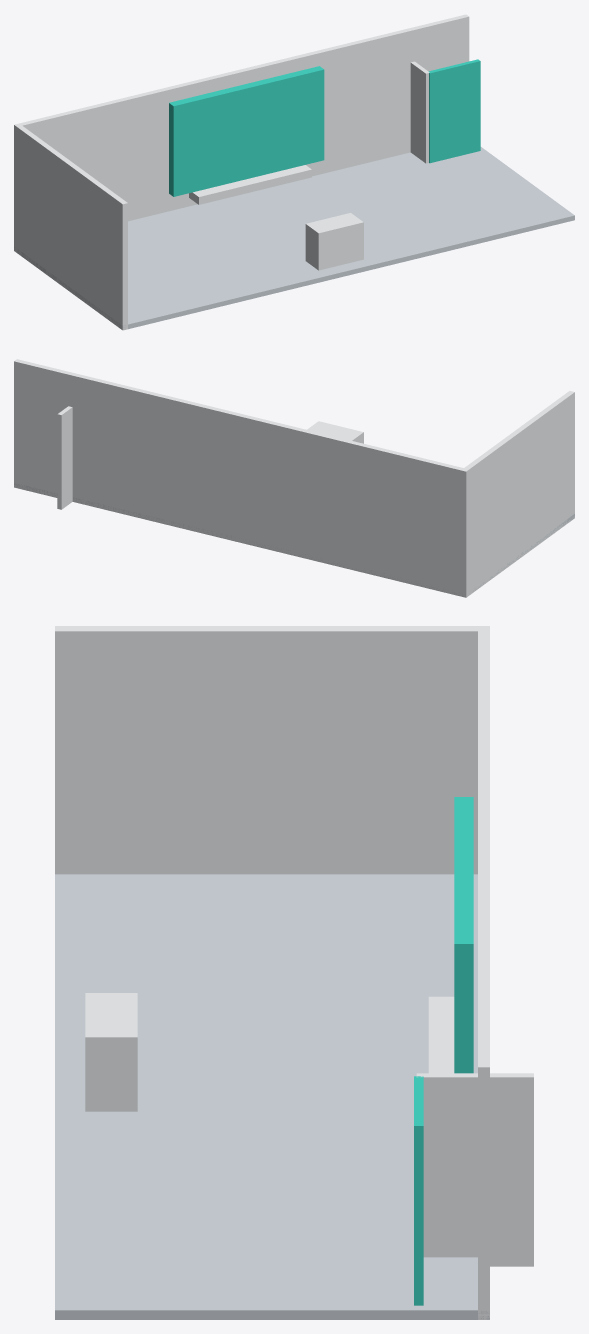
3 renders of one model, top to bottom at view 1: azimuth 30°, elevation 25°; view 2: azimuth 150°, elevation 25°; view 3: azimuth 270°, elevation 25°, orthographic. The views are drawn at different scales.
Visible parts, largest first — view 1: Exhibition Booth Concept; view 2: Exhibition Booth Concept; view 3: Exhibition Booth Concept.
Boxes of the visible parts, x1,y1,x2,y2 form: Exhibition Booth Concept: [14, 14, 574, 330]; Exhibition Booth Concept: [14, 359, 574, 597]; Exhibition Booth Concept: [55, 626, 533, 1319].
Size of the model in its own units: 12 by 3.2 by 5.51.
